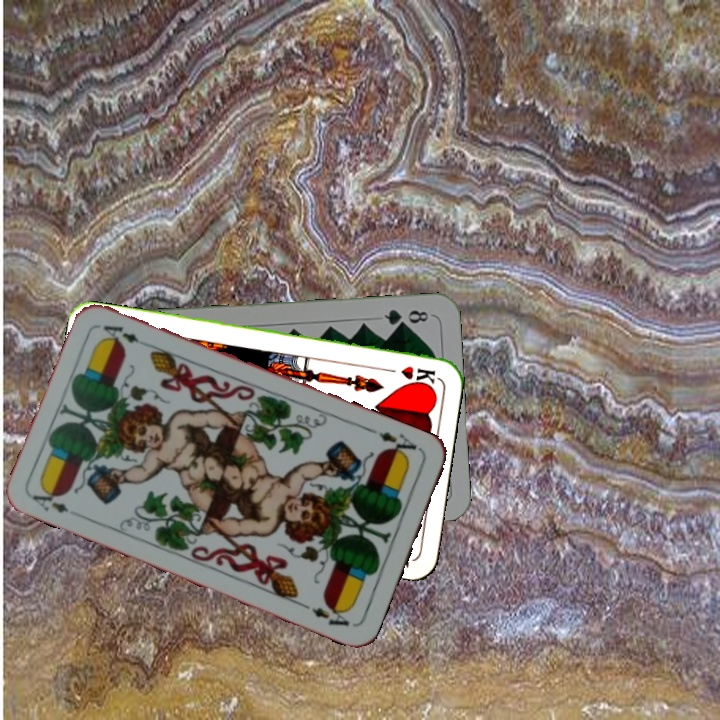EA: (374, 427, 424, 461), (28, 483, 72, 516)
G8: (380, 305, 431, 329)
HK: (379, 361, 438, 386)
